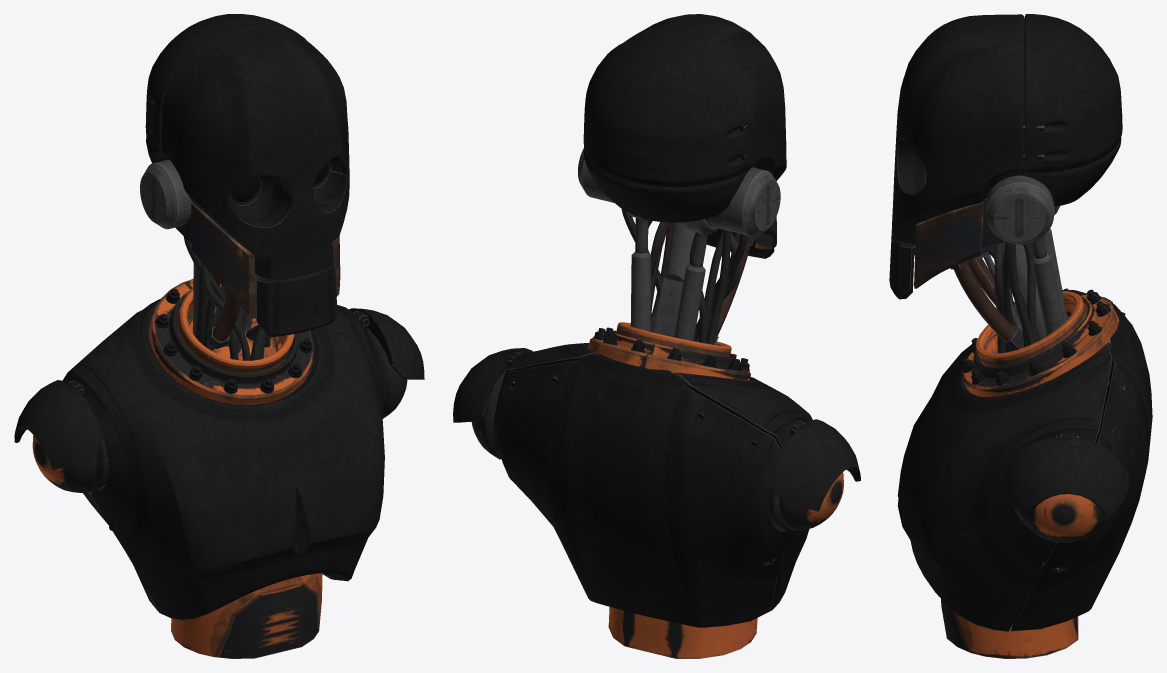
Rendered from robot.glb.
3 renders of one model, left to right at view 1: azimuth 30°, elevation 25°; view 2: azimuth 150°, elevation 25°; view 3: azimuth 270°, elevation 25°, orthographic.
Parts seen in each view (by area): view 1: Object_2; view 2: Object_2; view 3: Object_2.
Part boxes in pixels (bbox=[...]): Object_2: bbox=[14, 14, 424, 658]; Object_2: bbox=[453, 14, 860, 658]; Object_2: bbox=[889, 14, 1152, 658].
Size of the model in its own units: 1.33 by 2 by 0.7905.
1 material, 1 textured.
